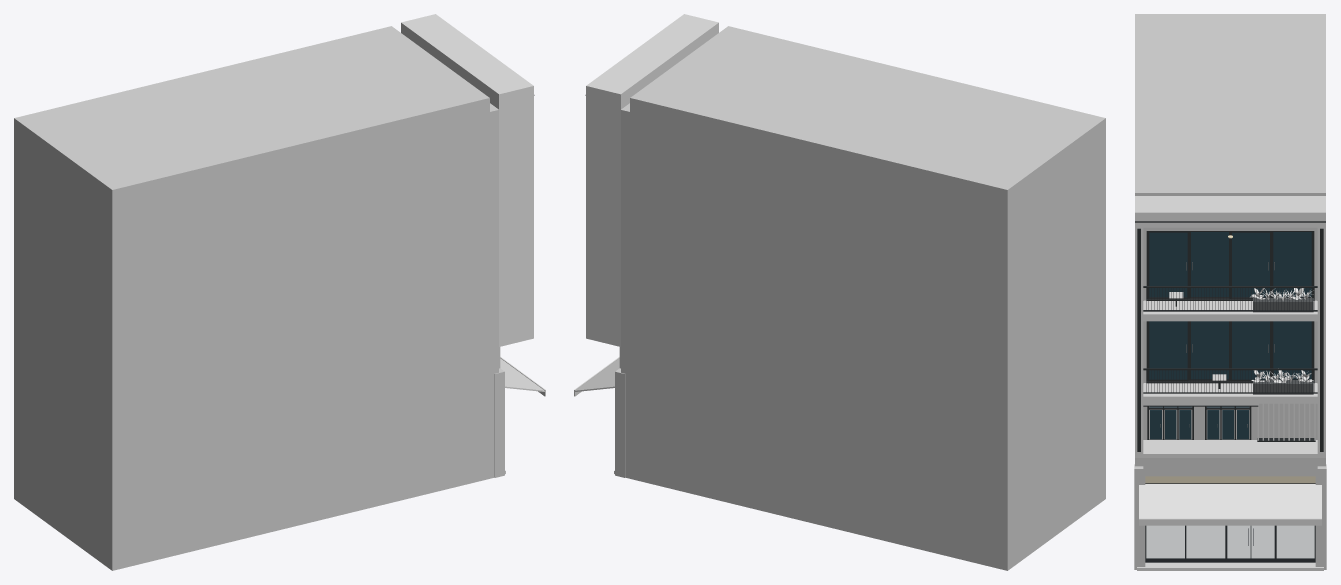
The model's file is OW_Mau_NhaPho_7_0_3_B.fbx.
3 views of the same model, side by side, from view 1: azimuth 30°, elevation 25°; view 2: azimuth 150°, elevation 25°; view 3: azimuth 270°, elevation 25° (orthographic). The views are drawn at different scales.
Parts seen in each view (by area): view 1: OW_NhaPho_9039; view 2: OW_NhaPho_9039; view 3: OW_NhaPho_9039, OW_MatTienKinh.
Part boxes in pixels (x1,y1,x2,y2): OW_NhaPho_9039: (14,14,545,570); OW_NhaPho_9039: (574,14,1105,570); OW_NhaPho_9039: (1134,14,1326,570); OW_MatTienKinh: (1145,476,1315,562).
Bounding box in the file's own units: 17.77 × 14.9 × 7.
